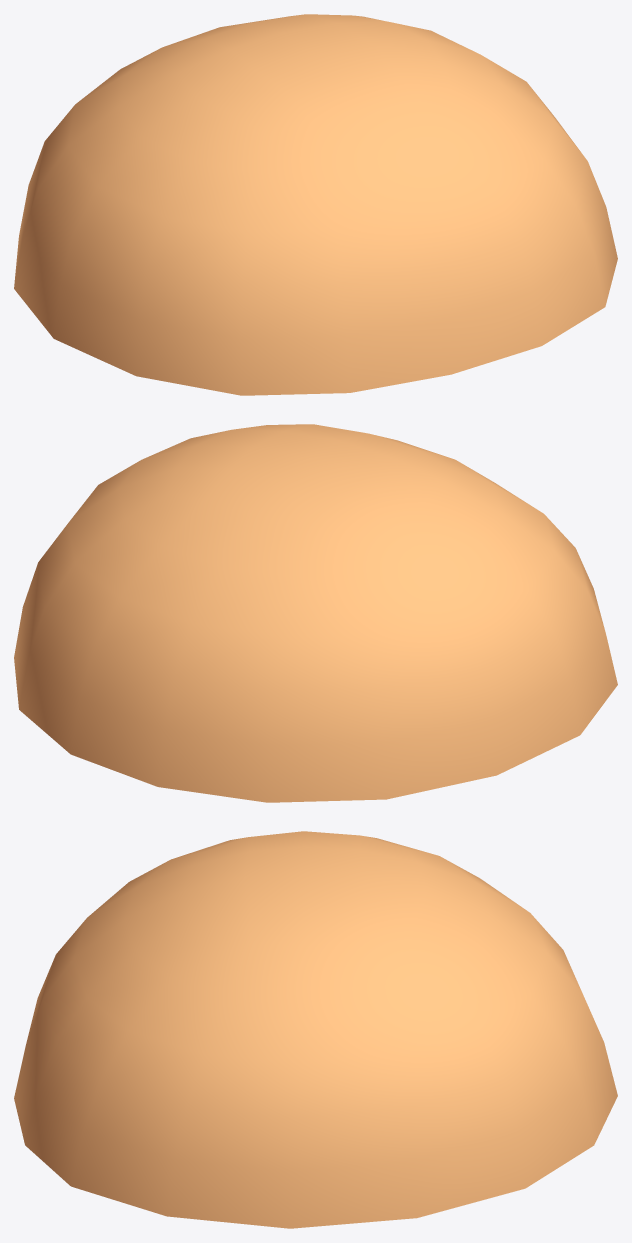
Rendered from hair3.fbx.
3 renders of one model, top to bottom at view 1: azimuth 30°, elevation 25°; view 2: azimuth 150°, elevation 25°; view 3: azimuth 270°, elevation 25°, orthographic. The views are drawn at different scales.
Visible parts, largest first — view 1: Object001; view 2: Object001; view 3: Object001.
Part boxes in pixels (bbox=[...]): Object001: bbox=[14, 14, 617, 395]; Object001: bbox=[14, 424, 617, 802]; Object001: bbox=[14, 831, 617, 1228].
Size of the model in its own units: 15.38 by 14.86 by 6.23.
